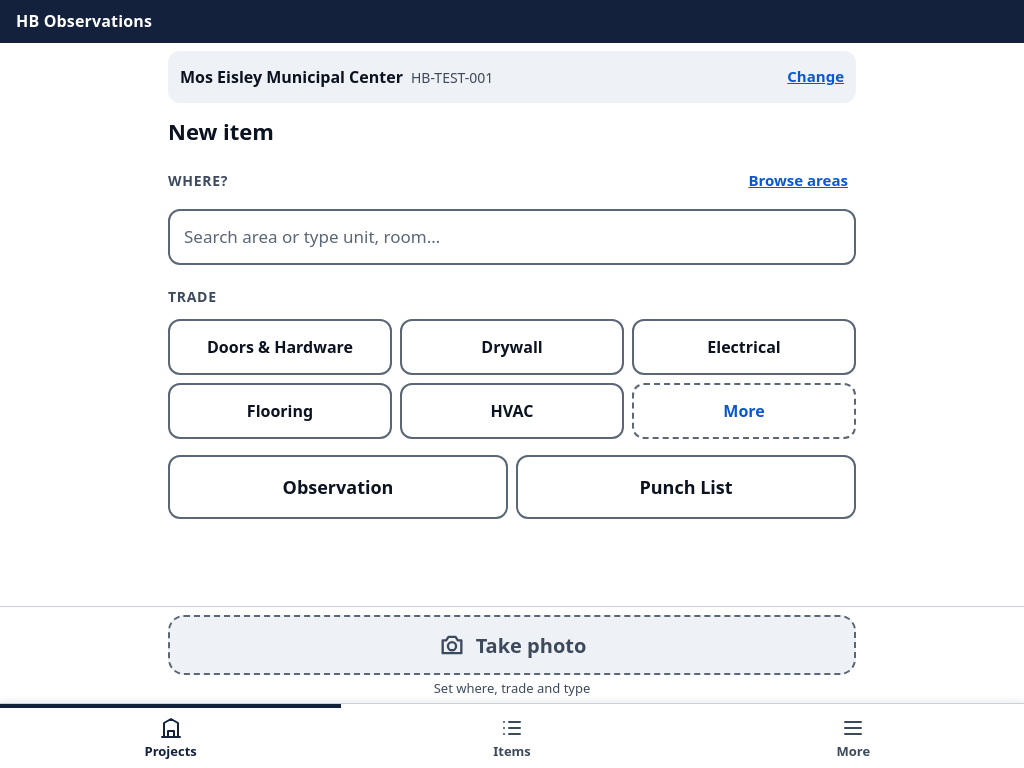
Test: rapid capture › selects a structured area, shows its full path, and clears the search text
Type "201" into the dropdown labelled "Where?" at point(512, 237), box [168,209,856,265]
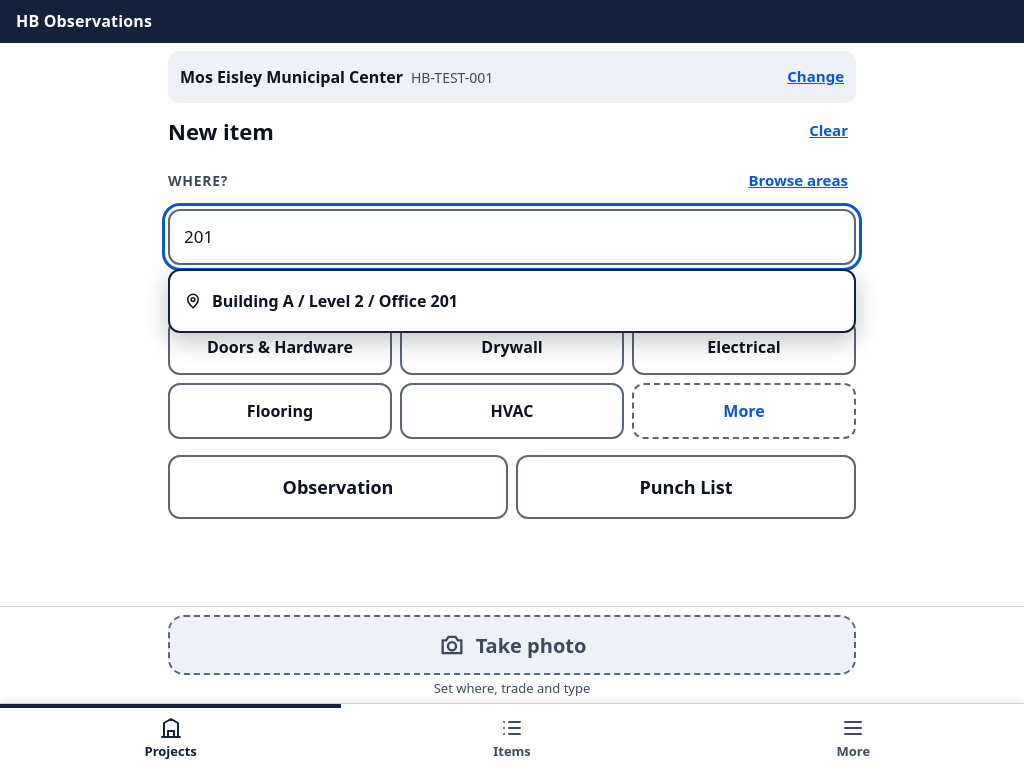
Click the option "Building A / Level 2 / Office 201" at point(321, 301), box [184,290,458,312]
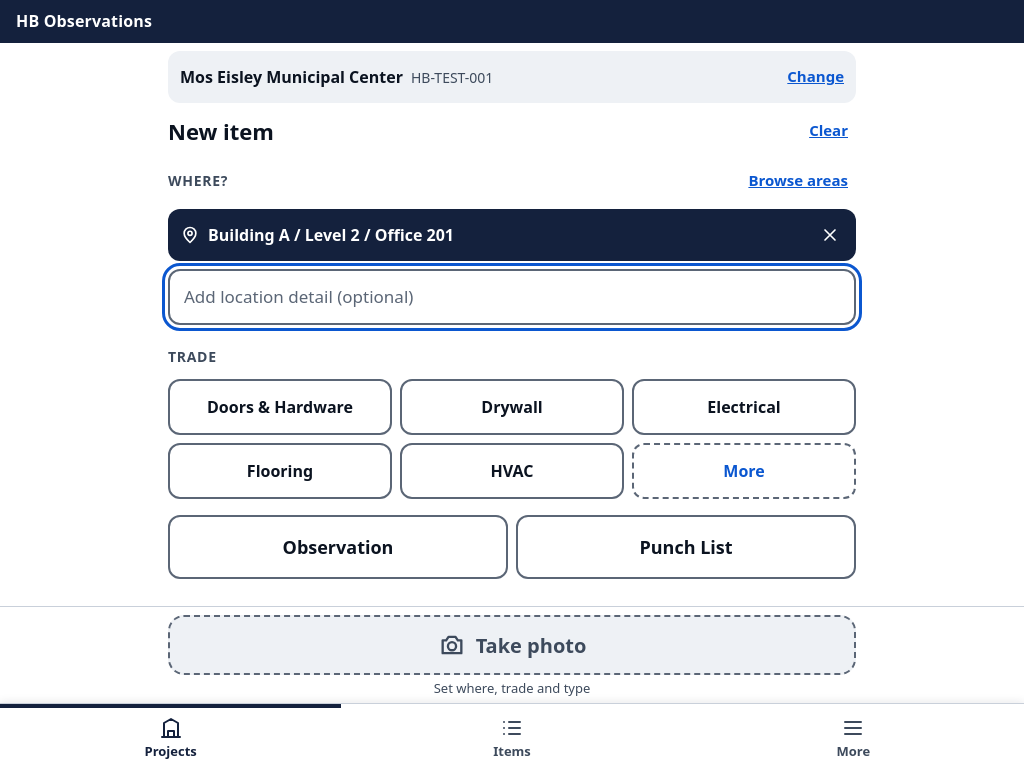
Expected: the text "Building A / Level 2 / Office 201" is shown, [208,224,454,246]
Expected: the button named "Remove area Building A / Level 2 / Office 201" is shown, [806,211,854,259]
Expected: the dropdown labelled "Where?" is empty, [168,269,856,325]
